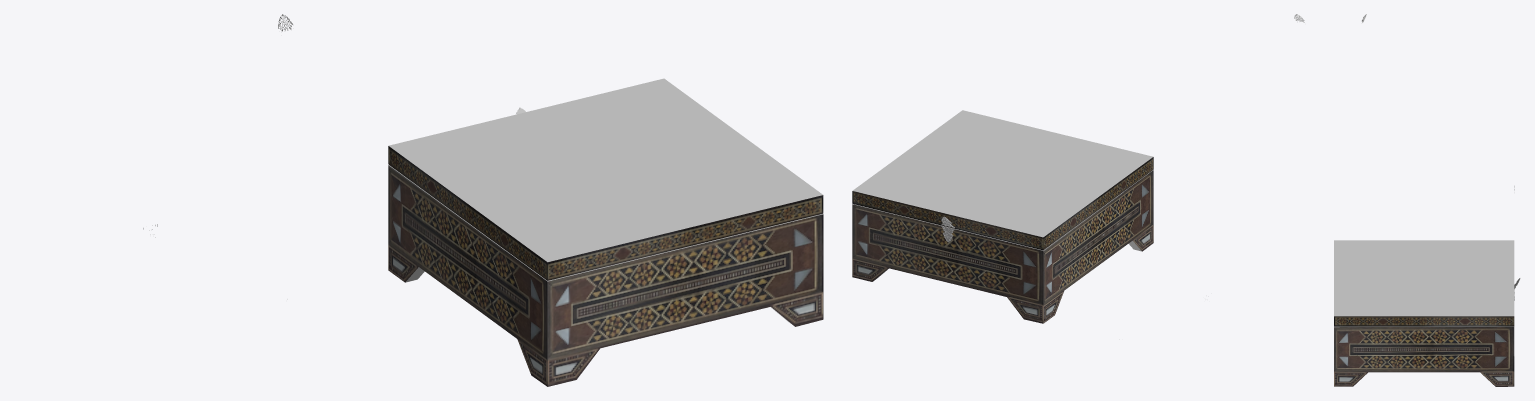
Rendered from CaixaApenasFechada.fbx.
The picture shows the model from 3 angles, left to right: view 1: azimuth 30°, elevation 25°; view 2: azimuth 150°, elevation 25°; view 3: azimuth 270°, elevation 25°; orthographic projection. The views are drawn at different scales.
Visible parts, largest first — view 1: Object_10.001, Object_6.001, Object_12.001; view 2: Object_10.001, Object_6.001, Object_12.001; view 3: Object_10.001, Object_6.001, Object_12.001, Object_8.129.
Boxes of the visible parts, <box> form: Object_10.001: <box>388,78,822,262</box>; Object_6.001: <box>388,165,823,386</box>; Object_12.001: <box>388,146,823,280</box>; Object_10.001: <box>852,110,1153,237</box>; Object_6.001: <box>852,170,1153,323</box>; Object_12.001: <box>852,157,1153,250</box>; Object_10.001: <box>1334,240,1514,316</box>; Object_6.001: <box>1334,327,1514,386</box>; Object_12.001: <box>1334,316,1514,326</box>; Object_8.129: <box>1338,326,1512,326</box>.
Bounding box in the file's own units: 54844 × 33070 × 24145.
